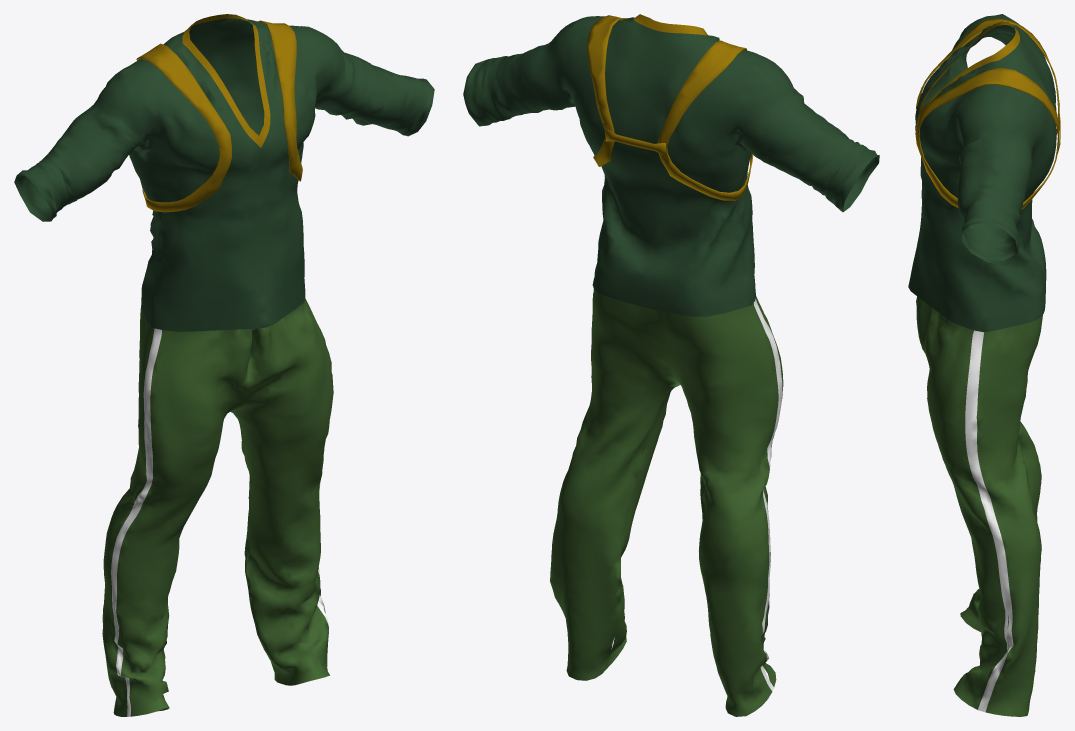
3 views of the same model, side by side, from view 1: azimuth 30°, elevation 25°; view 2: azimuth 150°, elevation 25°; view 3: azimuth 270°, elevation 25° (orthographic). The views are drawn at different scales.
Parts seen in each view (by area): view 1: Shirt_low (×2), Pant_low (×2), Belt_low; view 2: Shirt_low (×2), Pant_low (×2), Belt_low; view 3: Shirt_low (×2), Pant_low (×2), Belt_low.
Boxes of the visible parts, x1=… form: Shirt_low (×2): x1=14, y1=14, x2=434, y2=331; Pant_low (×2): x1=102, y1=298, x2=333, y2=716; Belt_low: x1=136, y1=20, x2=302, y2=212; Shirt_low (×2): x1=463, y1=14, x2=879, y2=316; Pant_low (×2): x1=550, y1=289, x2=783, y2=716; Belt_low: x1=587, y1=15, x2=753, y2=200; Shirt_low (×2): x1=908, y1=14, x2=1056, y2=332; Pant_low (×2): x1=916, y1=296, x2=1042, y2=716; Belt_low: x1=915, y1=18, x2=1060, y2=209.
Bounding box in the file's own units: 1.24 × 2 × 0.4287.
